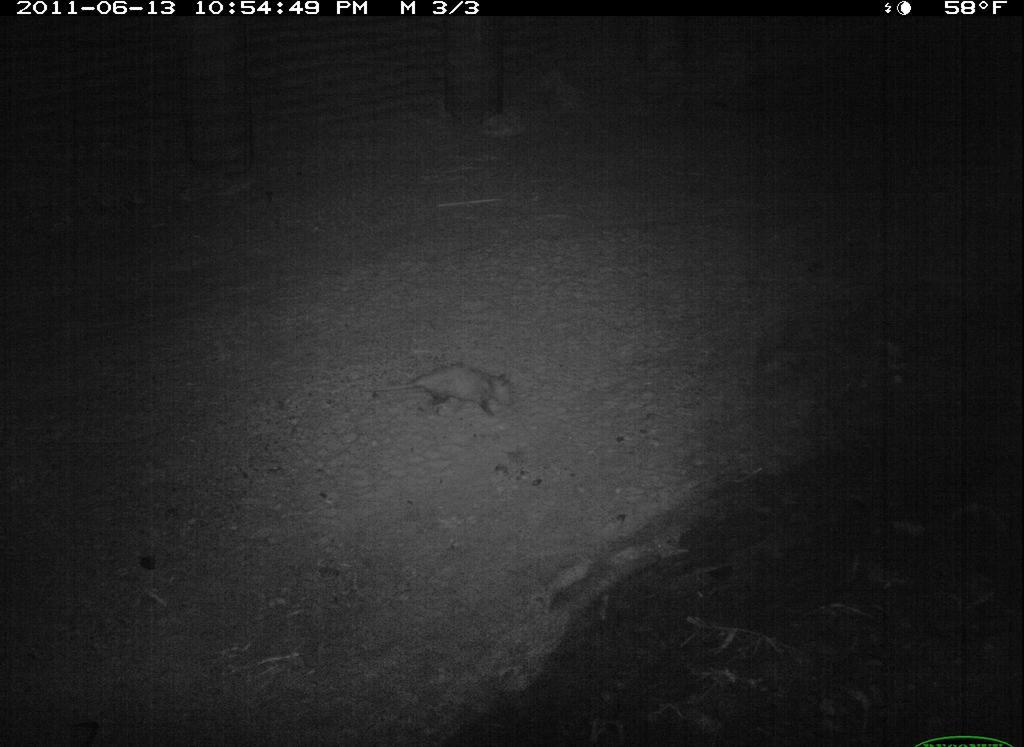opossum: (367, 359, 523, 422)
